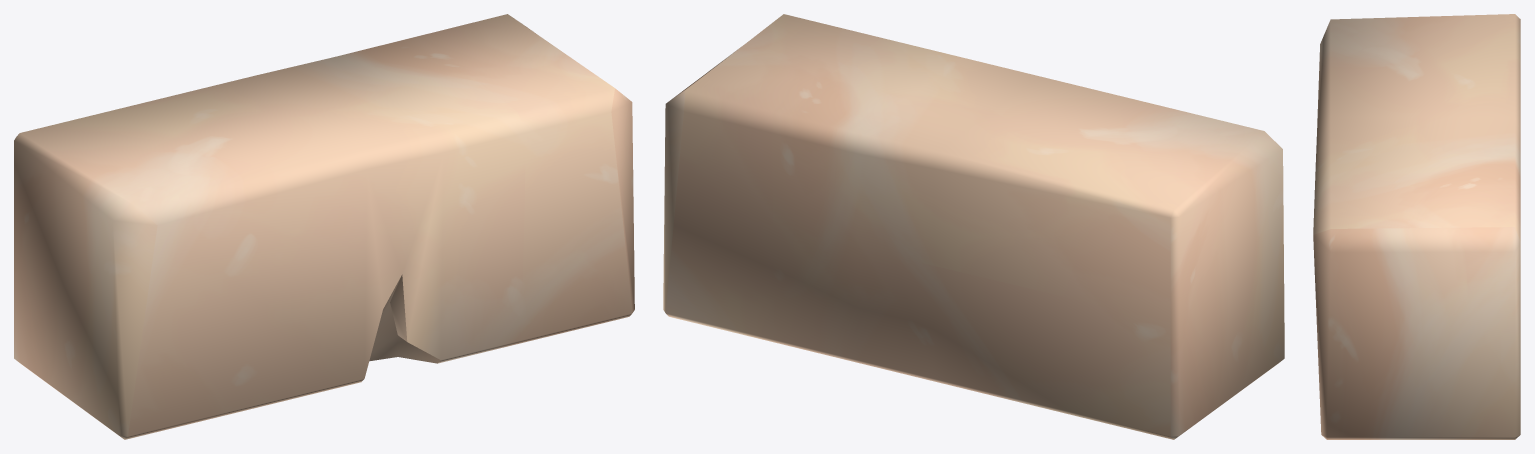
The model's file is Block4.fbx.
The picture shows the model from 3 angles, left to right: view 1: azimuth 30°, elevation 25°; view 2: azimuth 150°, elevation 25°; view 3: azimuth 270°, elevation 25°; orthographic projection. The views are drawn at different scales.
Visible parts, largest first — view 1: Block4; view 2: Block4; view 3: Block4.
Boxes of the visible parts, <box> form: Block4: <box>14,14,634,439</box>; Block4: <box>663,14,1284,439</box>; Block4: <box>1313,14,1520,439</box>.
Bounding box in the file's own units: 1.75 × 0.7418 × 0.6782.
